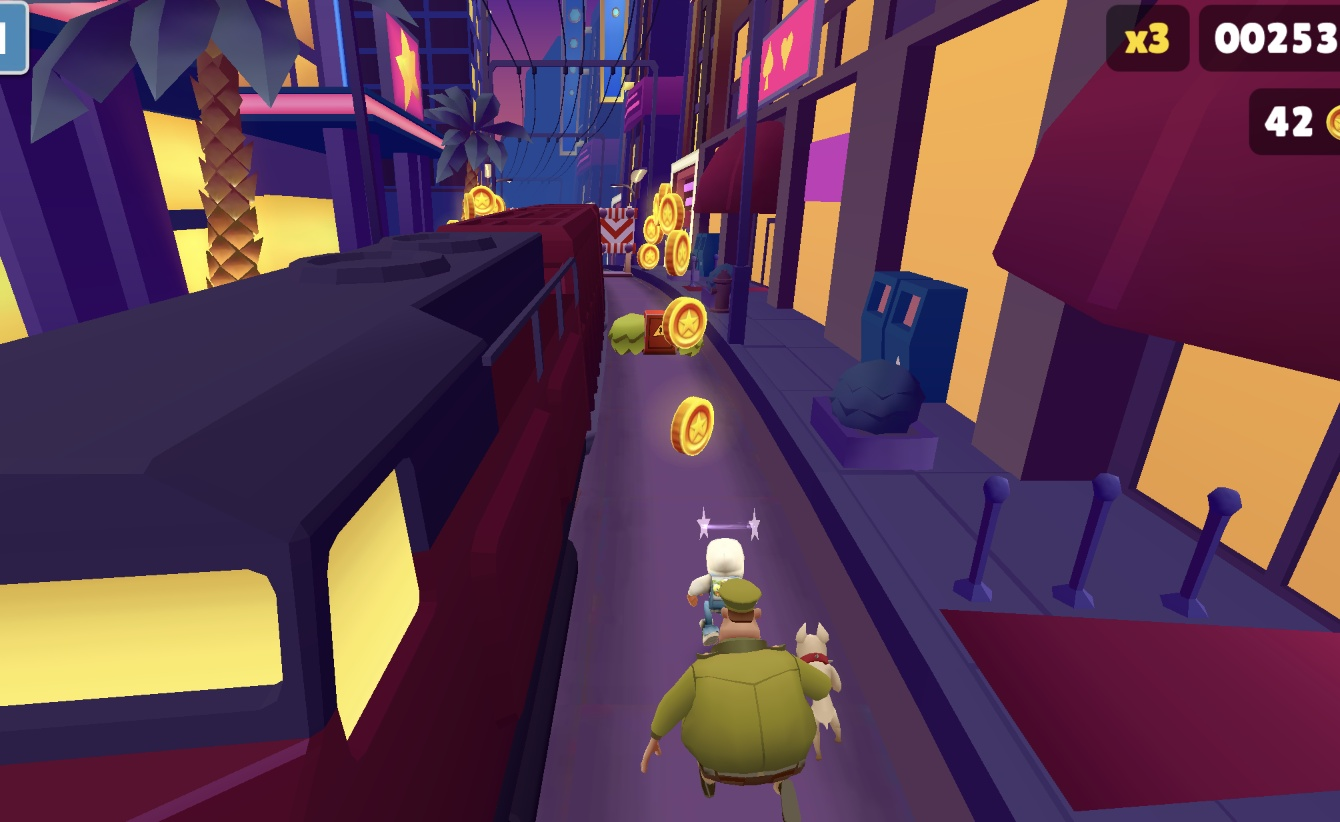bush: (606, 313, 644, 355), (676, 331, 700, 355)
overhead_barrier: (601, 211, 640, 280)
small_obstacle: (642, 303, 675, 352)
train: (0, 205, 603, 822)
